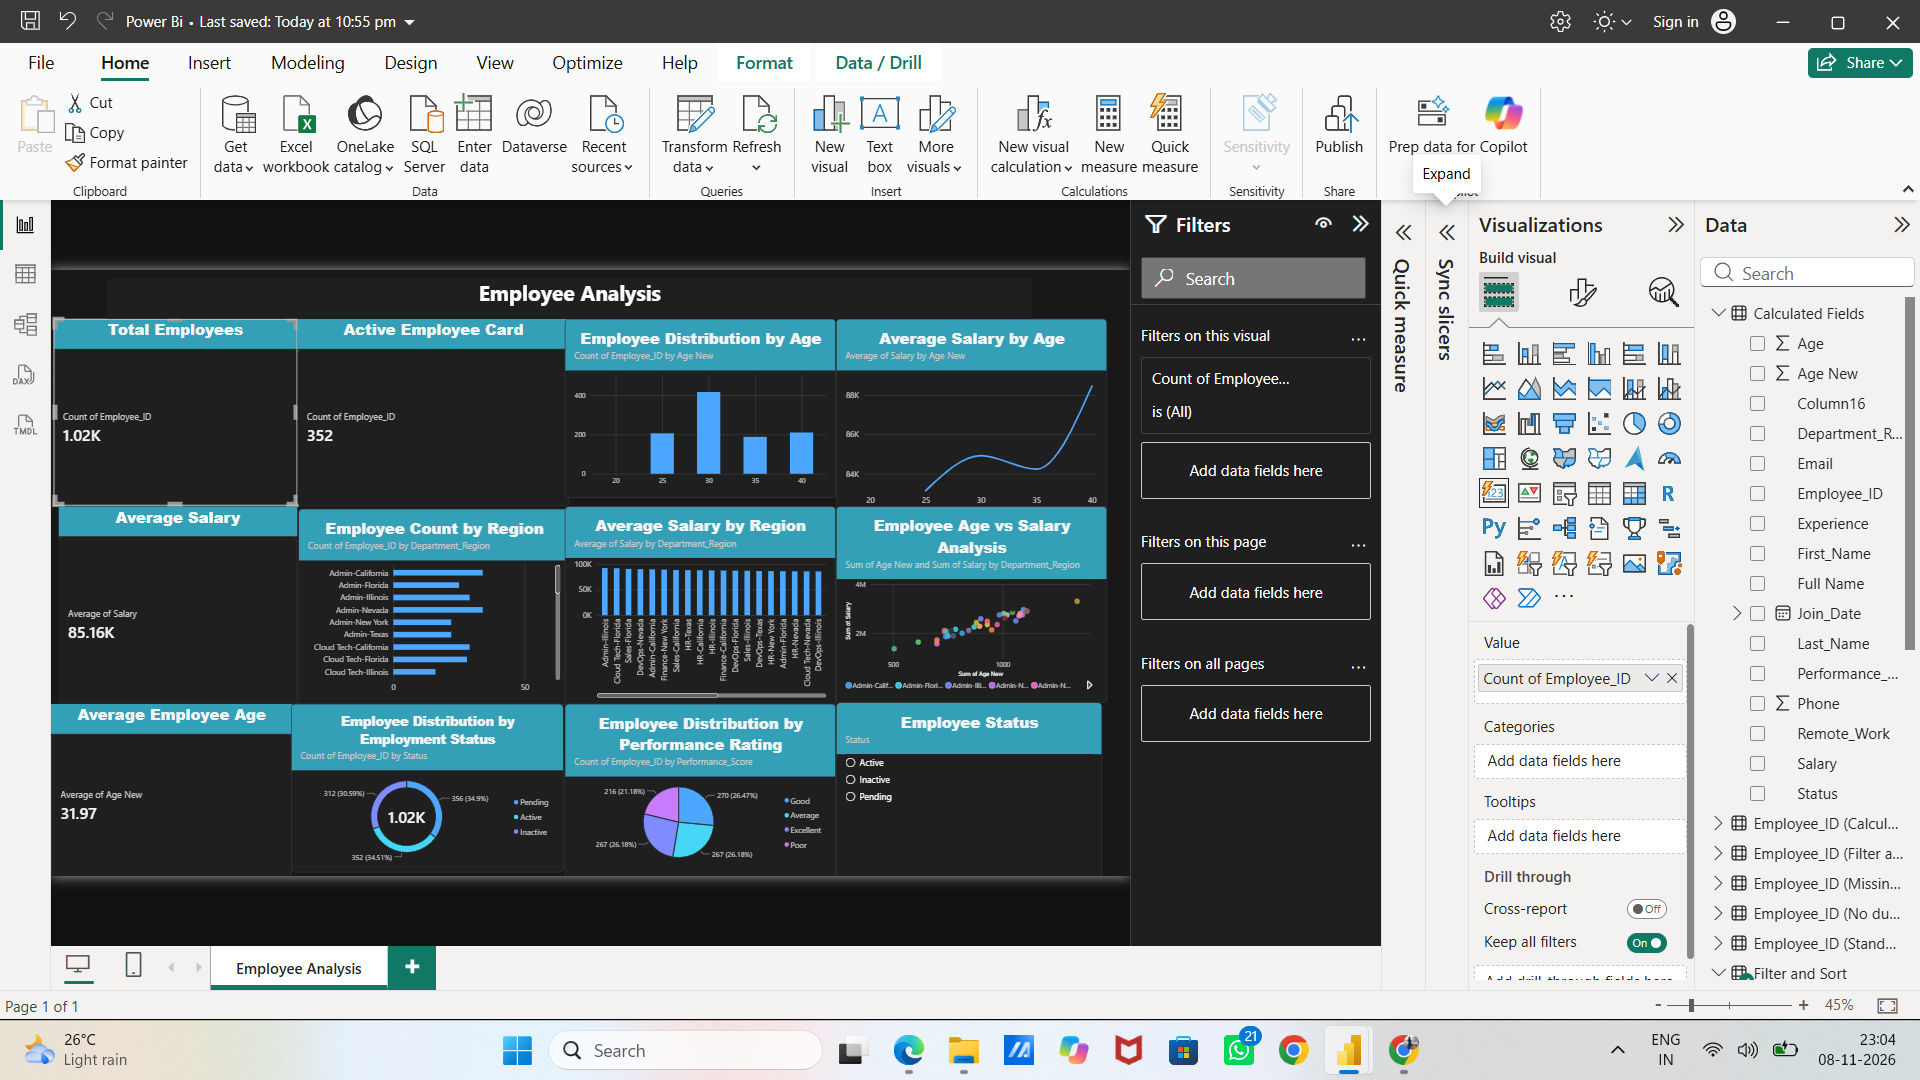

The dashboard page shown, as its layout file describes it:
{"tool":"powerbi","page":{"name":"Employee Analysis","canvas":[1920,1080],"ordinal":0},"visuals":[{"type":"cardVisual","title":"Total Employees","fields":{"Data":["Count(Filter and Sort.Employee_ID)"]},"box":[4.4,86.7,433.7,333.6],"z":0},{"type":"cardVisual","title":"Average Salary","fields":{"Data":["Avg(Filter and Sort.Salary)"]},"box":[13.3,420.4,424.8,367],"z":1000},{"type":"cardVisual","title":"Average Employee Age","fields":{"Data":["Avg(Filter and Sort.Age New)"]},"box":[0,771.8,429.3,309.2],"z":2000},{"type":"cardVisual","title":"Active Employee Card","fields":{"Data":["Count(Filter and Sort.Employee_ID)"]},"box":[438.2,86.7,484.9,333.6],"z":3000},{"type":"clusteredBarChart","title":"Employee Count by Region","fields":{"Category":["Filter and Sort.Department_Region","Calculated Fields.Performance_Score"],"Y":["Count(Filter and Sort.Employee_ID)"]},"box":[440.4,424.8,482.7,349.2],"z":4000},{"type":"donutChart","title":"Employee Distribution by Employment Status","fields":{"Category":["Filter and Sort.Status"],"Y":["Count(Filter and Sort.Employee_ID)"]},"box":[427.1,771.8,484.9,300.3],"z":5000},{"type":"clusteredColumnChart","title":"Employee Distribution by Age","fields":{"Category":["Filter and Sort.Age New"],"Y":["Count(Filter and Sort.Employee_ID)"]},"box":[914.2,86.7,482.7,318.1],"z":6000},{"type":"clusteredColumnChart","title":"Average Salary by Region","fields":{"Category":["Filter and Sort.Department_Region"],"Y":["Avg(Filter and Sort.Salary)"]},"box":[914.2,420.4,482.7,358.1],"z":7000},{"type":"pieChart","title":"Employee Distribution by Performance Rating","fields":{"Category":["Filter and Sort.Performance_Score"],"Y":["CountNonNull(Filter and Sort.Employee_ID)"]},"box":[914.2,771.8,482.7,309.2],"z":8000},{"type":"lineChart","title":"Average Salary by Age","fields":{"Category":["Filter and Sort.Age New"],"Y":["Avg(Filter and Sort.Salary)"]},"box":[1396.9,86.7,482.7,355.9],"z":9000},{"type":"scatterChart","title":"Employee Age vs Salary Analysis","fields":{"Series":["Filter and Sort.Department_Region"],"X":["Sum(Filter and Sort.Age New)"],"Y":["Sum(Filter and Sort.Salary)"]},"box":[1396.9,420.4,482.7,349.2],"z":10000},{"type":"listSlicer","title":"Employee Status","fields":{"Values":["Filter and Sort.Status"]},"box":[1396.9,769.6,473.8,311.4],"z":11000},{"type":"textbox","box":[100.1,15.6,1646,71.2],"z":12000}]}

Visuals, with their boxes on the page's 1920x1080 design canvas (x1, y1, x2, y2). These are canvas units, not pixel positions in the 1920x1080 screenshot, which may show the page scaled, cropped or inside an application window:
"Total Employees" cardVisual: Rect(4, 87, 438, 420)
"Average Salary" cardVisual: Rect(13, 420, 438, 787)
"Average Employee Age" cardVisual: Rect(0, 772, 429, 1081)
"Active Employee Card" cardVisual: Rect(438, 87, 923, 420)
"Employee Count by Region" clusteredBarChart: Rect(440, 425, 923, 774)
"Employee Distribution by Employment Status" donutChart: Rect(427, 772, 912, 1072)
"Employee Distribution by Age" clusteredColumnChart: Rect(914, 87, 1397, 405)
"Average Salary by Region" clusteredColumnChart: Rect(914, 420, 1397, 778)
"Employee Distribution by Performance Rating" pieChart: Rect(914, 772, 1397, 1081)
"Average Salary by Age" lineChart: Rect(1397, 87, 1880, 443)
"Employee Age vs Salary Analysis" scatterChart: Rect(1397, 420, 1880, 770)
"Employee Status" listSlicer: Rect(1397, 770, 1871, 1081)
textbox: Rect(100, 16, 1746, 87)
